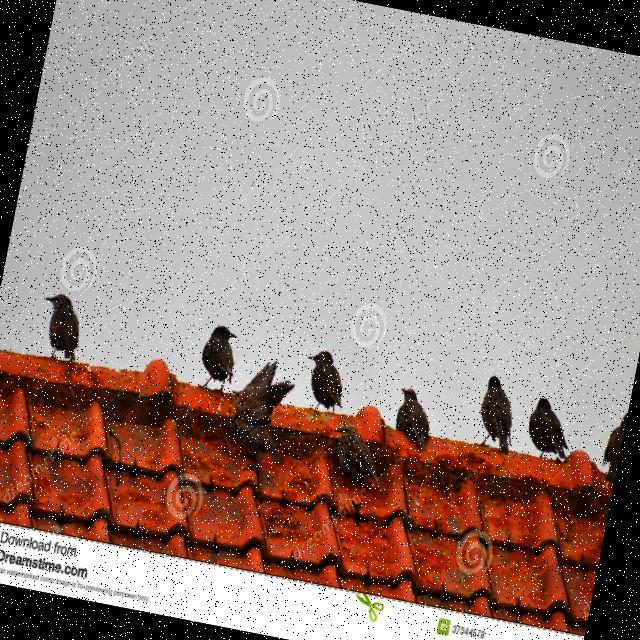bird: (220, 352, 304, 477), (324, 418, 396, 496), (32, 290, 90, 364), (296, 346, 354, 418), (472, 374, 524, 454), (522, 395, 580, 465), (194, 322, 244, 396), (389, 385, 438, 451), (597, 408, 628, 485), (348, 401, 394, 449)
